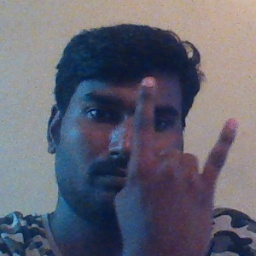V: (119, 76, 243, 256)
